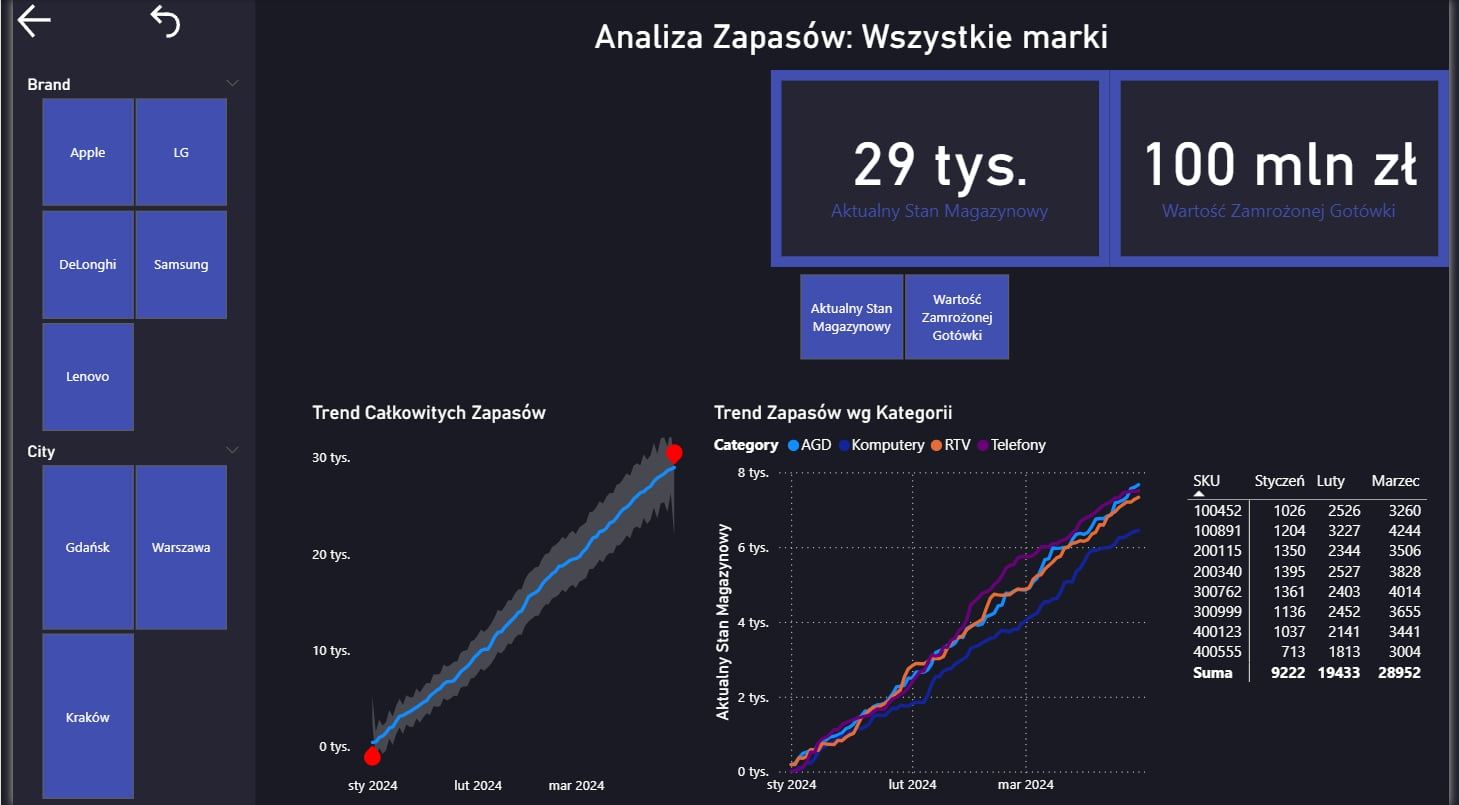

The dashboard page shown, as its layout file describes it:
{"tool":"powerbi","page":{"name":"Overview","canvas":[1280,720],"ordinal":0},"visuals":[{"type":"pivotTable","fields":{"Rows":["Dim_Product.Product_Number"],"Values":["_Miary.Aktualny Stan Magazynowy"],"Columns":["Fact_Snapshots.Miesiąc"]},"box":[1042,414.7,238.1,305.1],"z":0},{"type":"shape","box":[0,63.5,215,656.7],"z":500,"group":"g1"},{"type":"shape","box":[0,0,216.2,719.7],"z":1000,"group":"g1"},{"type":"card","fields":{"Values":["_Miary.Wartość Zamrożonej Gotówki"]},"box":[977.7,63.3,302.3,175.7],"z":1000},{"type":"card","fields":{"Values":["_Miary.Aktualny Stan Magazynowy"]},"box":[675.4,63.3,302.3,175.7],"z":2000},{"type":"lineChart","title":"Trend Zapasów wg Kategorii","fields":{"Y":["_Miary.Aktualny Stan Magazynowy"],"Category":["Dim_Date.Date"],"Series":["Dim_Product.Category"]},"box":[619.7,358,413.8,361.8],"z":3000},{"type":"slicer","fields":{"Values":["Wybór Miary.Wybór Miary"]},"box":[675.4,239,236.2,88.8],"z":4000},{"type":"group","id":"g1","title":"Panel Filtrów","box":[0,0,216.3,719.8],"z":5000},{"type":"slicer","fields":{"Values":["Dim_Location.City"]},"box":[0,390.1,214.7,329.6],"z":6000,"group":"g1"},{"type":"slicer","fields":{"Values":["Dim_Product.Brand"]},"box":[0,63.6,214.8,328.4],"z":7000,"group":"g1"},{"type":"lineChart","title":"Trend Całkowitych Zapasów","fields":{"Y":["_Miary.Aktualny Stan Magazynowy"],"Category":["Dim_Date.Date"]},"box":[261.7,358,358,361.8],"z":7000},{"type":"actionButton","box":[0,0,100.1,39.7],"z":7500,"group":"g1"},{"type":"actionButton","box":[116.2,0,99.2,39.7],"z":8000},{"type":"card","fields":{"Values":["_Miary.Dynamiczny Tytul"]},"box":[214.5,0,1066,63.1],"z":9000}]}

Visuals, with their boxes on the page's 1280x720 design canvas (x1, y1, x2, y2). These are canvas units, not pixel positions in the 1459x805 screenshot, which may show the page scaled, cropped or inside an application window:
pivotTable - Dim_Product.Product_Number x _Miary.Aktualny Stan Magazynowy: locate(1042, 415, 1280, 720)
shape: locate(0, 64, 215, 720)
shape: locate(0, 0, 216, 720)
card - _Miary.Wartość Zamrożonej Gotówki: locate(978, 63, 1280, 239)
card - _Miary.Aktualny Stan Magazynowy: locate(675, 63, 978, 239)
"Trend Zapasów wg Kategorii" lineChart: locate(620, 358, 1034, 720)
slicer - Wybór Miary.Wybór Miary: locate(675, 239, 912, 328)
"Panel Filtrów" group: locate(0, 0, 216, 720)
slicer - Dim_Location.City: locate(0, 390, 215, 720)
slicer - Dim_Product.Brand: locate(0, 64, 215, 392)
"Trend Całkowitych Zapasów" lineChart: locate(262, 358, 620, 720)
actionButton: locate(0, 0, 100, 40)
actionButton: locate(116, 0, 215, 40)
card - _Miary.Dynamiczny Tytul: locate(214, 0, 1280, 63)
